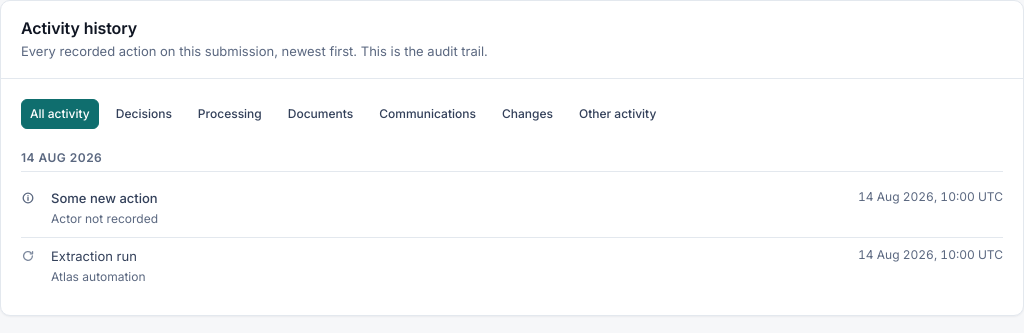
it: Audit timeline › keeps unknown event codes visible under the Other activity filter
This screenshot has width=1024, height=333.
Expected: the text "Some new action" is shown, [51, 190, 158, 206]
Click the button "Other activity". click: (618, 114)
box: [570, 98, 665, 128]
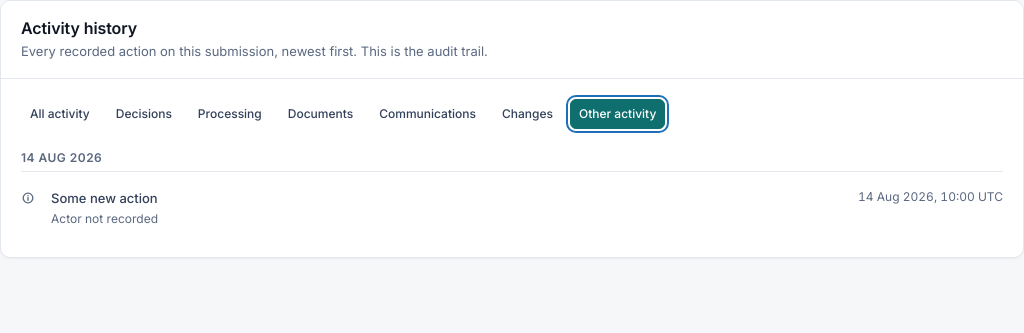
Expected: the text "Some new action" is shown, [51, 190, 158, 206]
Expected: the text "Extraction run" is gone
